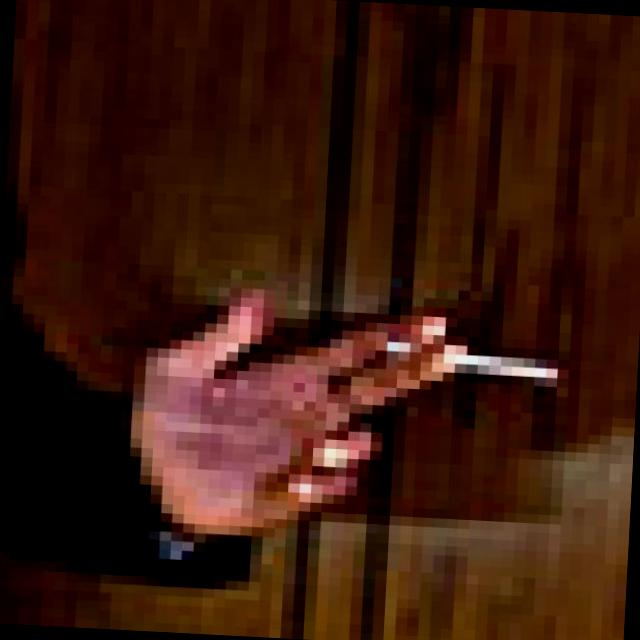cigarette: (387, 324, 582, 371)
